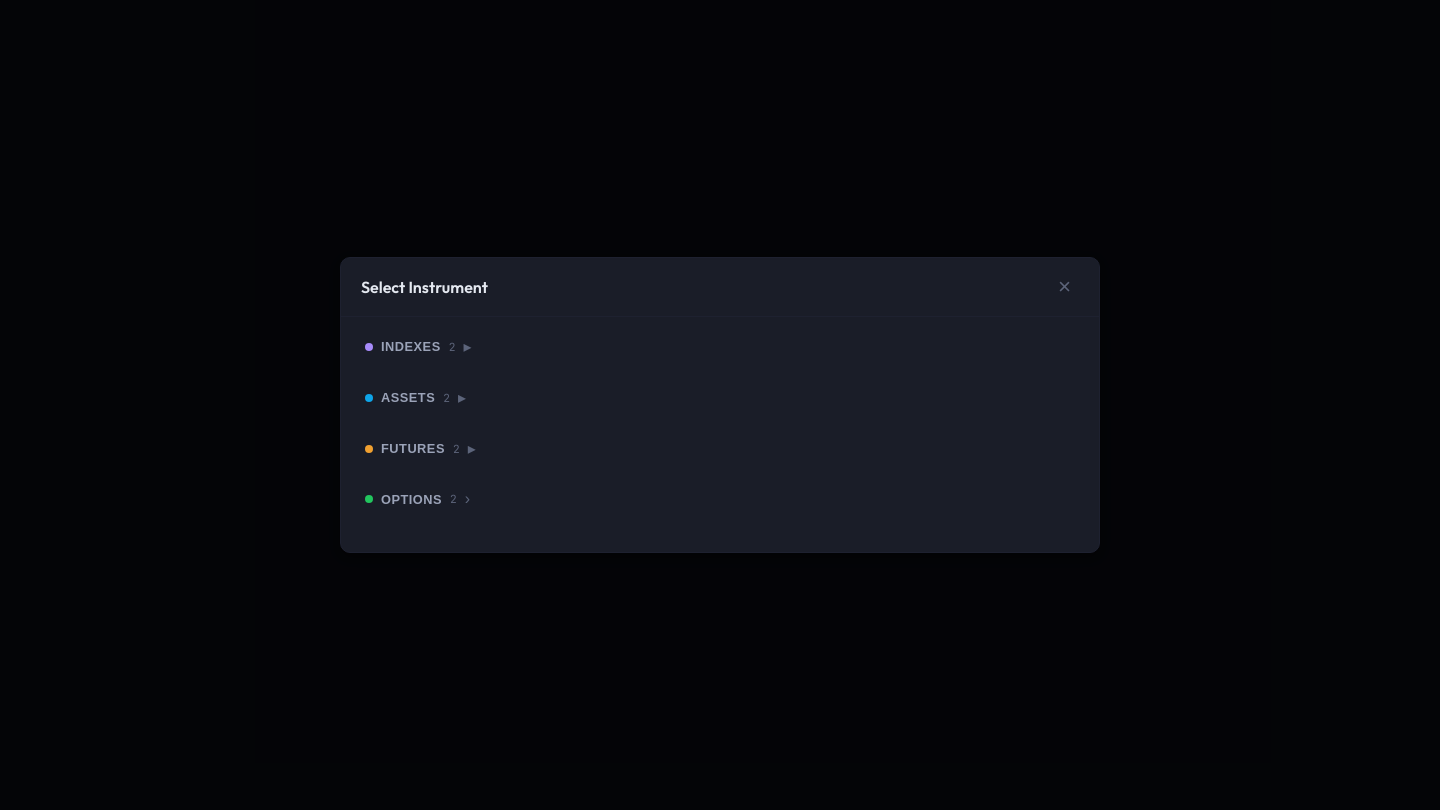
Test: <InstrumentPickerModal> source-aware catalog › without the selector: catalog stays v1 (byte-identical) even if defaultSource=v2
This screenshot has width=1440, height=810.
Check: the text "Indexes" is shown, box [381,339,441,354]
Click the text "Futures". click: (413, 449)
box: [381,441,445,456]
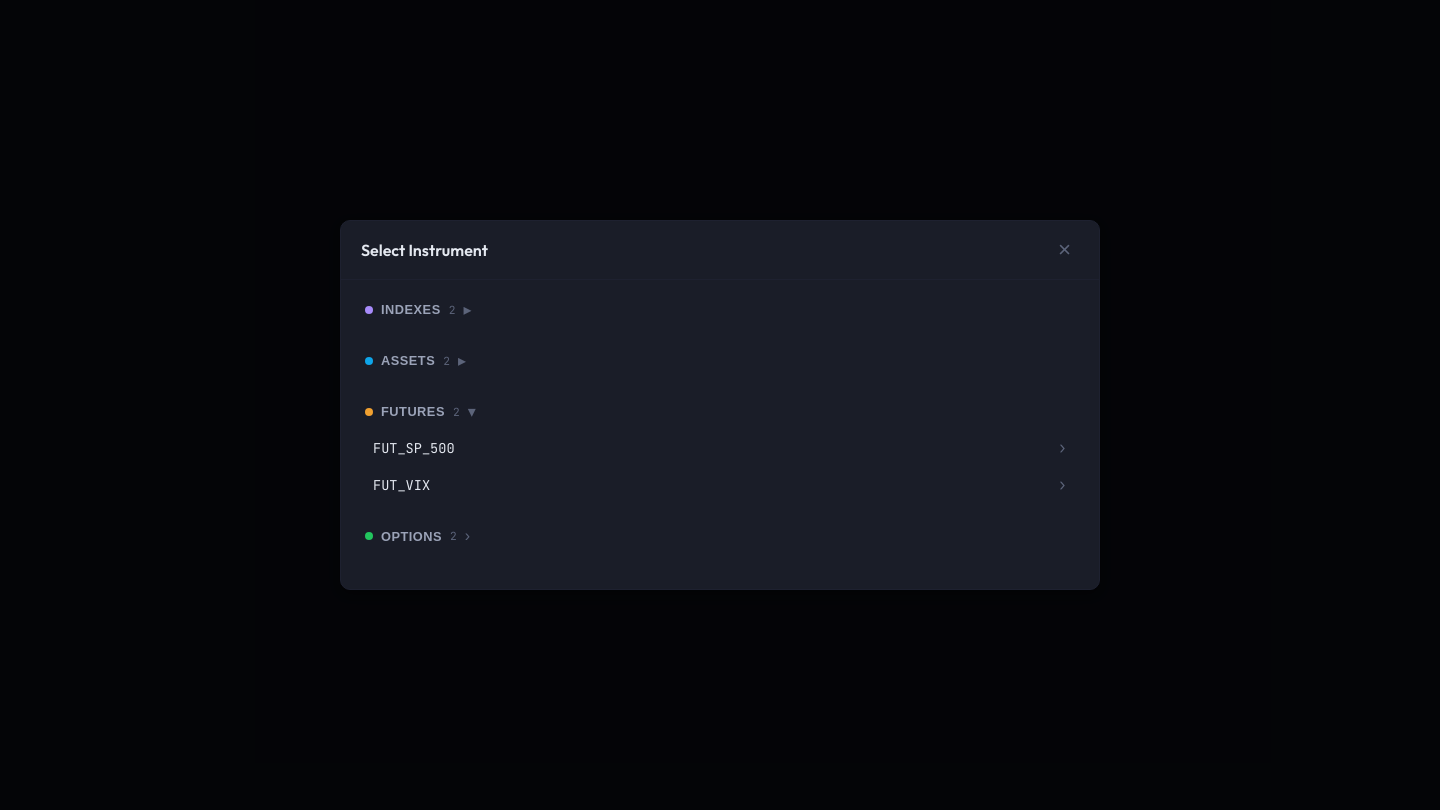
Check: the text "FUT_VIX" is shown, box [373,476,430,494]
